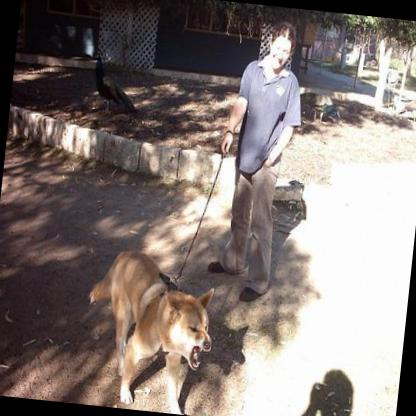dingo: (76, 244, 220, 414)
